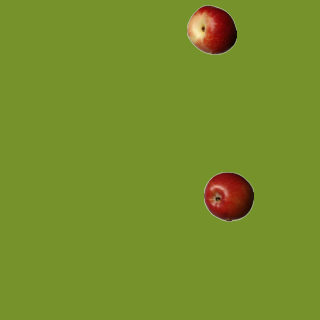Apple Braeburn: (203, 171, 253, 221)
Nectarine: (186, 4, 236, 54)
